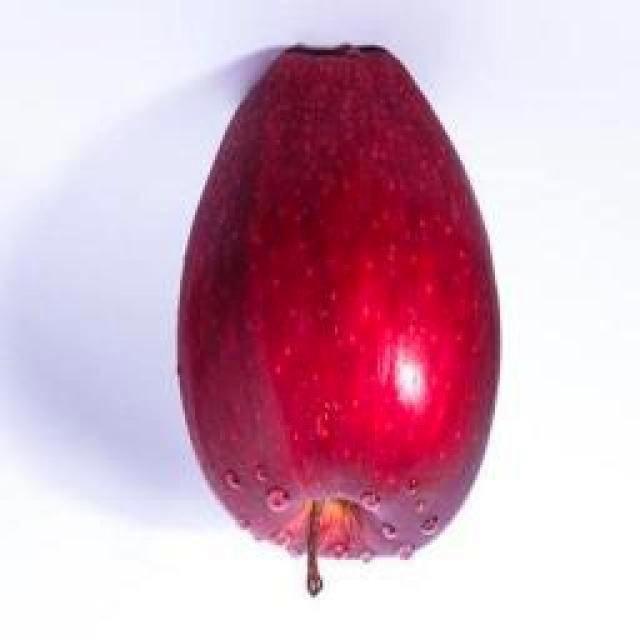Apple: (178, 46, 499, 593)
